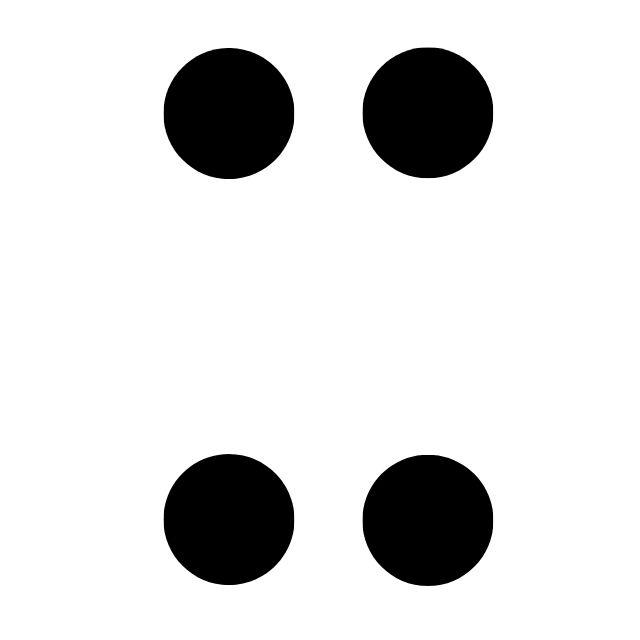x: (163, 47, 493, 589)
